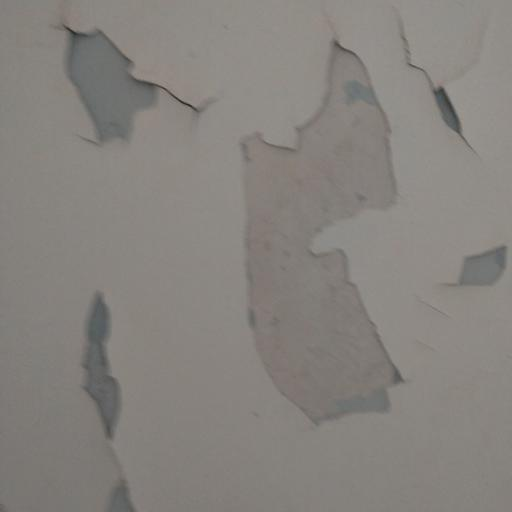peeling: (220, 18, 422, 439), (43, 6, 226, 175), (62, 270, 167, 512), (375, 0, 511, 166), (418, 222, 512, 380)
